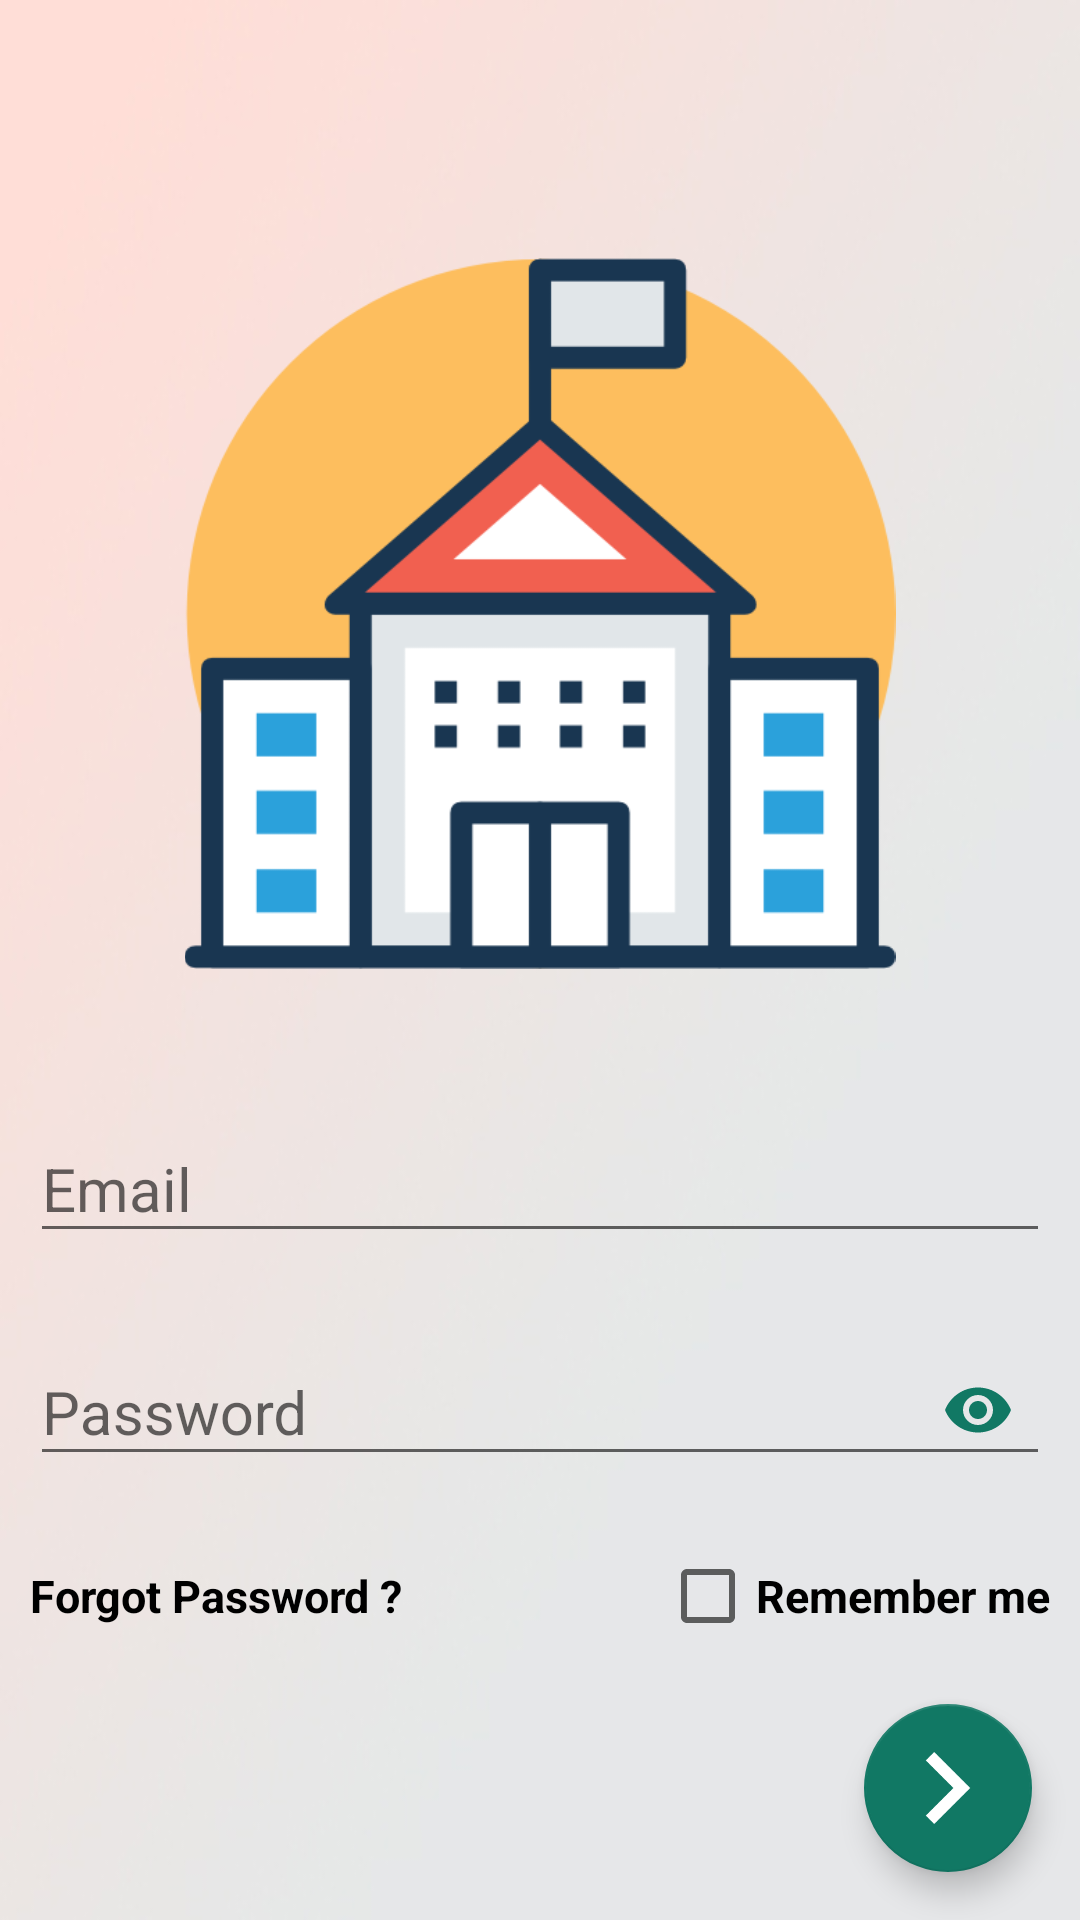

Icons on this 1080*1920 Android screen, each with its box as [x1=x1, y1=y1, x2=x2, y2=y2]:
arrow: [x1=864, y1=1704, x2=1032, y2=1872]
